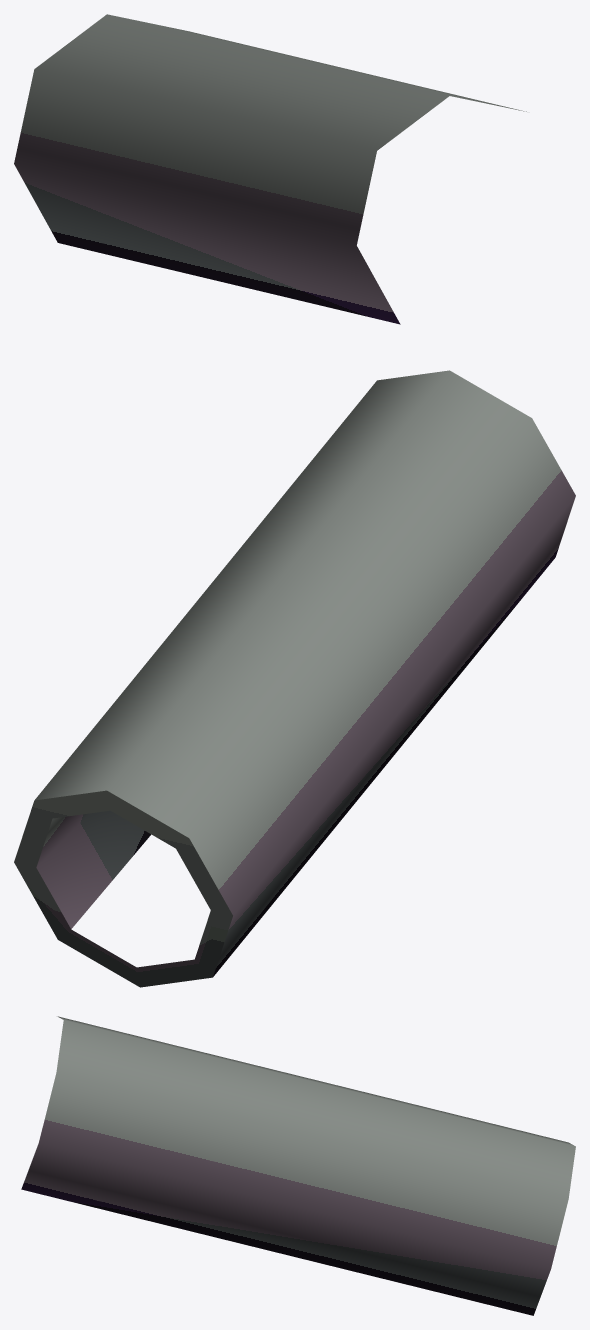
Rendered from Toxic_Level2_Pipe.glb.
3 renders of one model, top to bottom at view 1: azimuth 30°, elevation 25°; view 2: azimuth 150°, elevation 25°; view 3: azimuth 270°, elevation 25°, orthographic. The views are drawn at different scales.
Visible parts, largest first — view 1: Toxic_Level2_Pipe; view 2: Toxic_Level2_Pipe; view 3: Toxic_Level2_Pipe.
Part boxes in pixels (x1,y1,x2,y2): Toxic_Level2_Pipe: [14, 14, 526, 324]; Toxic_Level2_Pipe: [14, 370, 575, 987]; Toxic_Level2_Pipe: [21, 1016, 575, 1315].
Bounding box in the file's own units: 0.5 × 0.8512 × 1.49.
1 material, 1 textured.
